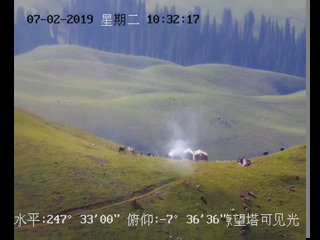smoke: (166, 121, 194, 159)
